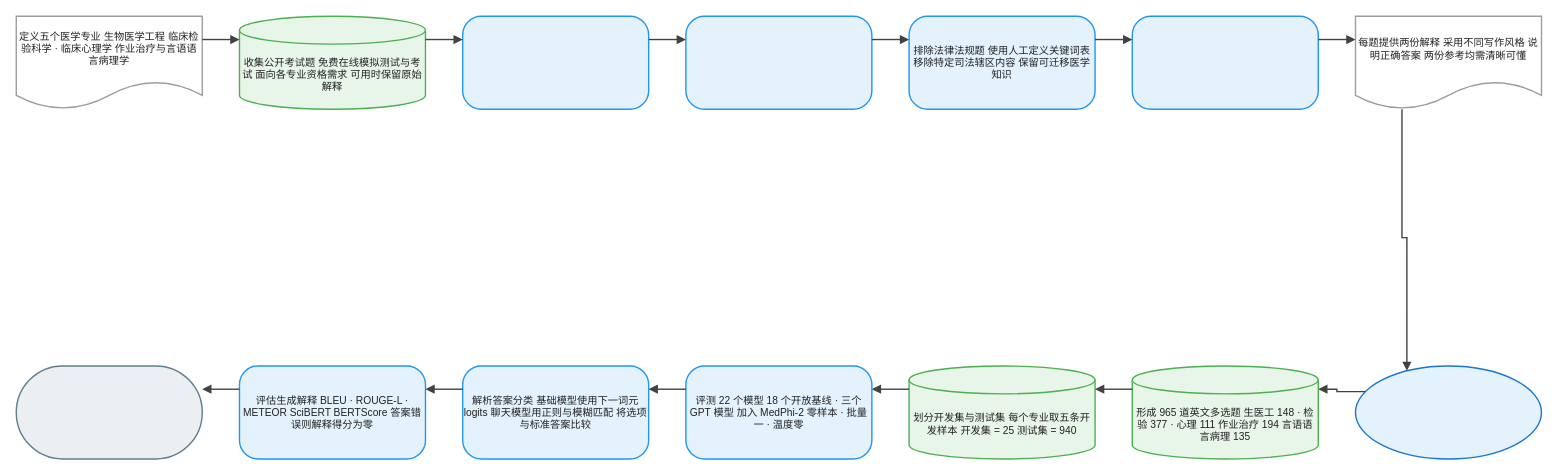
This 1559x476 diagram has some shape labels left out. Here are the shapes that lost their labels. From the top down, the centre of each, then its label:
the point at 555,62: 移除完全重复项 对问题去重 对解释去重 每项保留一条干净记录
the point at 778,62: 过滤语义近似题 使用 BERT 编码问题 比较余弦相似度 移除近重复题目
the point at 1225,62: 打乱答案选项 改变原始选项位置 维护合理使用与测试完整性 同步保留正确标签映射
the point at 109,412: 人工验证并报告 三名健康相关硕士标注员 对 25 条开发样本评分 0 · 0.5 · 1 计算人工与自动指标相关性
the point at 1448,412: 人工核验每条记录 检查问题与两份解释 确认表达方式不同 确认医学推理正确
